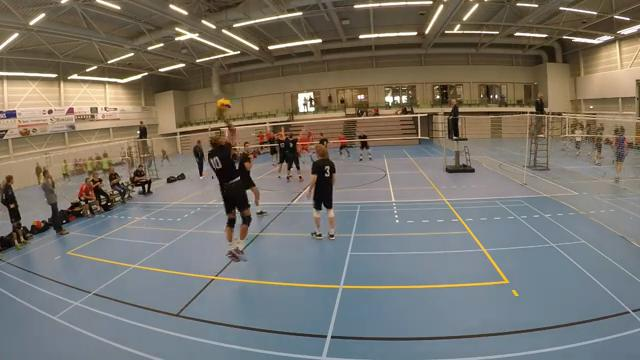battuta: (198, 107, 267, 264)
